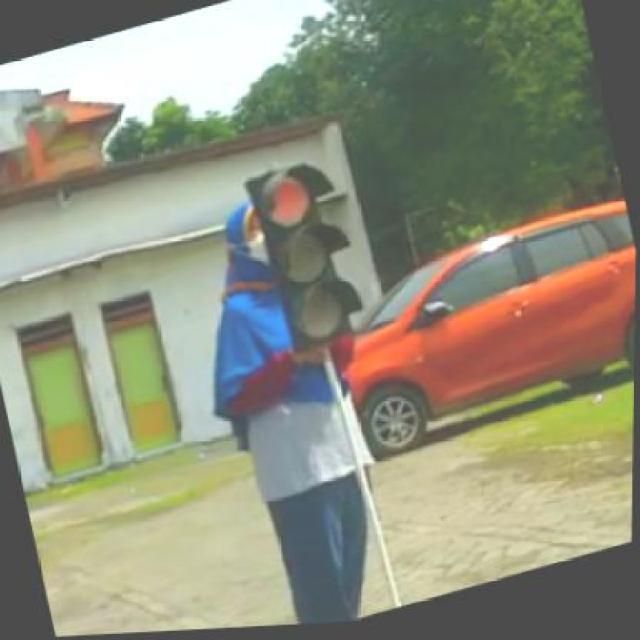car: (245, 156, 368, 357)
